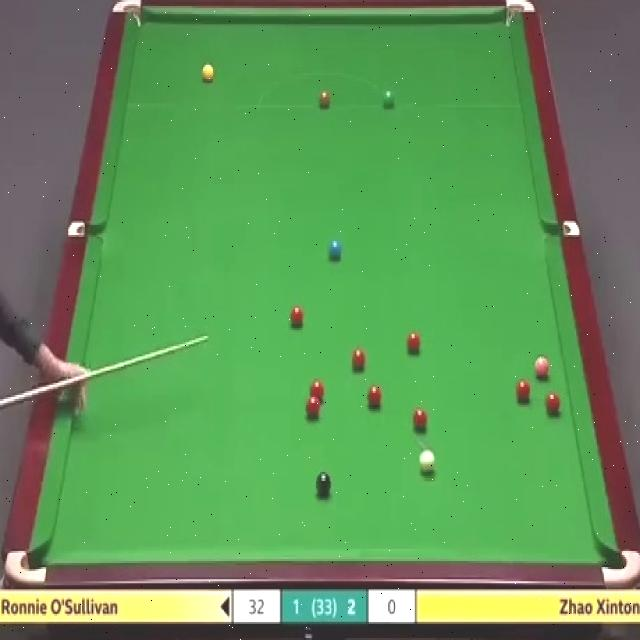black-ball: (314, 471, 332, 496)
blue-ball: (329, 240, 342, 262)
brown-ball: (319, 92, 331, 110)
green-ball: (383, 90, 394, 109)
pink-ball: (534, 355, 551, 381)
red-ball: (544, 390, 562, 416), (407, 329, 422, 354), (412, 409, 428, 432), (352, 346, 367, 370), (368, 385, 382, 410), (305, 396, 321, 416), (516, 381, 531, 402), (310, 382, 326, 401), (291, 304, 304, 326)
white-ball: (419, 448, 437, 477)
yellow-ball: (201, 64, 216, 86)
